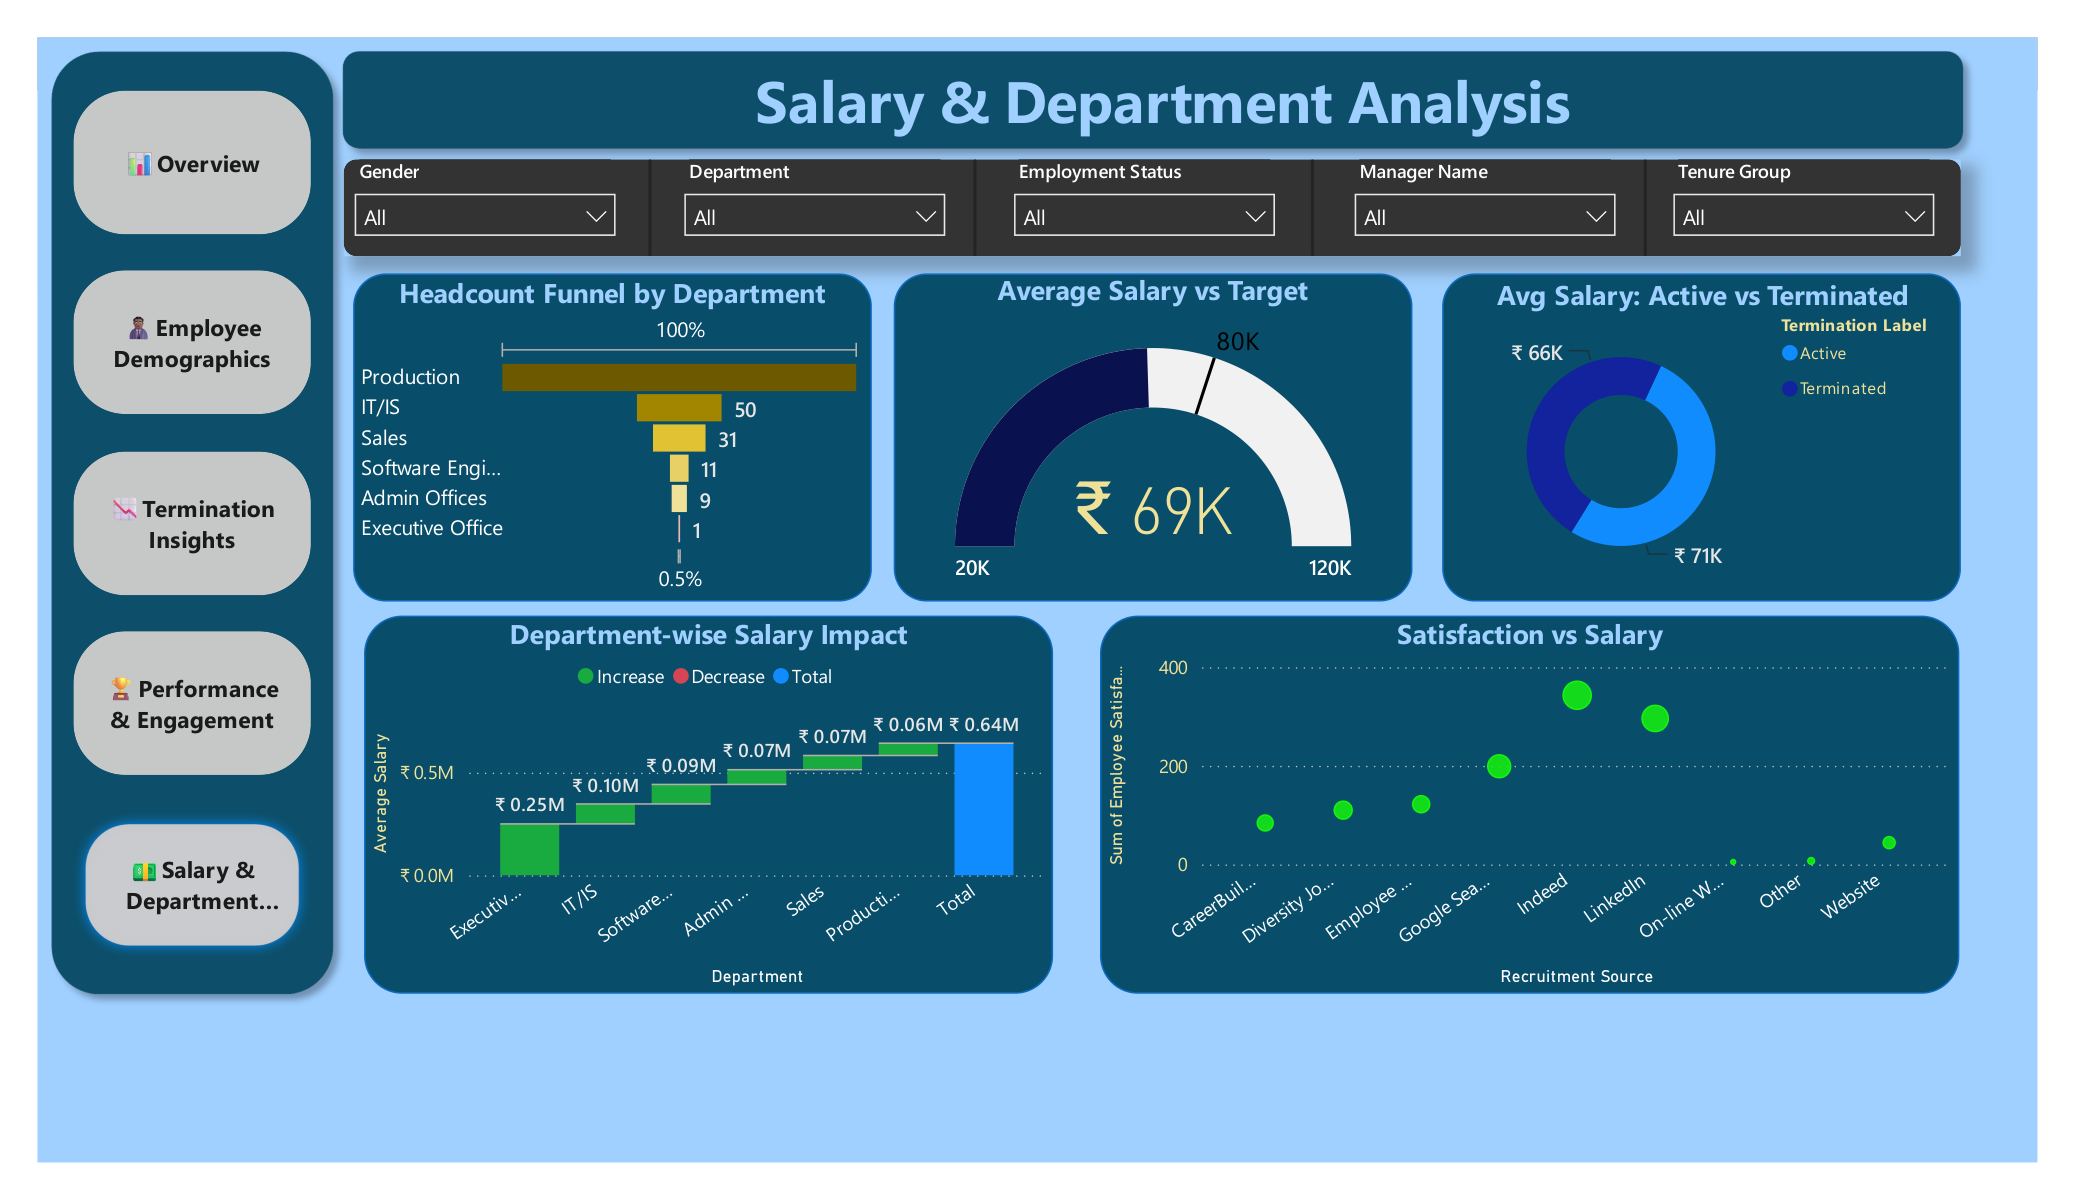

What the dashboard file says about the page in this screenshot:
{"tool":"powerbi","page":{"name":"Salary & Department Analysis","canvas":[1280,720],"ordinal":4},"visuals":[{"type":"shape","box":[0,0,198,621.4],"z":0},{"type":"actionButton","box":[23,34,152,92],"z":1000},{"type":"actionButton","box":[23.1,149.2,152,91.8],"z":2000},{"type":"actionButton","box":[23.1,264.8,152,91.8],"z":3000},{"type":"actionButton","box":[23.1,380.4,152,91.8],"z":4000},{"type":"actionButton","box":[23.1,495.9,152,92.9],"z":5000},{"type":"shape","box":[187,0,1054,80],"z":6000},{"type":"textbox","box":[209,10,1022,60],"z":7000},{"type":"shape","box":[196,78,1035,62],"z":8000},{"type":"slicer","fields":{"Values":["HRDataset_v14.Gender"]},"box":[198,78,177,64],"z":9000},{"type":"shape","box":[365,78,54,62],"z":10000},{"type":"slicer","fields":{"Values":["HRDataset_v14.Department"]},"box":[409,78,177,65],"z":11000},{"type":"slicer","fields":{"Values":["HRDataset_v14.Employment Status"]},"box":[620,78,177,64],"z":12000},{"type":"slicer","fields":{"Values":["HRDataset_v14.Manager Name"]},"box":[838,78,177,59],"z":13000},{"type":"slicer","fields":{"Values":["HRDataset_v14.Tenure Group"]},"box":[1042,78,177,62],"z":14000},{"type":"shape","box":[573,78,54,62],"z":15000},{"type":"shape","box":[789,78,54,62],"z":16000},{"type":"shape","box":[202,151,332,210],"z":17000},{"type":"shape","box":[1002,78,54,62],"z":18000},{"type":"shape","box":[548,151,332,210],"z":19000},{"type":"shape","box":[899,151,332,210],"z":20000},{"type":"shape","box":[209,370,441,242],"z":21000},{"type":"shape","box":[680,370,550,242],"z":22000},{"type":"funnel","title":"Headcount Funnel by Department","fields":{"Category":["HRDataset_v14.Department"],"Y":["CountNonNull(HRDataset_v14.Employee ID)"]},"box":[202,152,332,209],"z":23000},{"type":"gauge","title":"Average Salary vs Target","fields":{"Y":["HRDataset_v14.Average Salary"],"MaxValue":["HRDataset_v14.Max Salary"],"MinValue":["HRDataset_v14.Min Salary"],"TargetValue":["HRDataset_v14.Salary Target"]},"box":[548,150,331.6,209.2],"z":24000},{"type":"waterfallChart","title":"Department-wise Salary Impact","fields":{"Category":["HRDataset_v14.Department"],"Y":["HRDataset_v14.Average Salary"]},"box":[209,370,441,242],"z":25000},{"type":"scatterChart","title":"Satisfaction vs Salary","fields":{"X":["HRDataset_v14.Recruitment Source"],"Y":["Sum(HRDataset_v14.Employee Satisfaction)"],"Size":["Sum(HRDataset_v14.Tenure)"]},"box":[680,370,550,242],"z":26000},{"type":"donutChart","title":" Avg Salary: Active vs Terminated","fields":{"Y":["HRDataset_v14.Average Salary"],"Category":["HRDataset_v14.Termination Label"]},"box":[906.1,153.1,319.4,205.1],"z":27000}]}

Visuals, with their boxes on the page's 1280x720 design canvas (x1, y1, x2, y2). These are canvas units, not pixel positions in the 2075x1200 screenshot, which may show the page scaled, cropped or inside an application window:
shape: BBox(0, 0, 198, 621)
actionButton: BBox(23, 34, 175, 126)
actionButton: BBox(23, 149, 175, 241)
actionButton: BBox(23, 265, 175, 357)
actionButton: BBox(23, 380, 175, 472)
actionButton: BBox(23, 496, 175, 589)
shape: BBox(187, 0, 1241, 80)
textbox: BBox(209, 10, 1231, 70)
shape: BBox(196, 78, 1231, 140)
slicer - HRDataset_v14.Gender: BBox(198, 78, 375, 142)
shape: BBox(365, 78, 419, 140)
slicer - HRDataset_v14.Department: BBox(409, 78, 586, 143)
slicer - HRDataset_v14.Employment Status: BBox(620, 78, 797, 142)
slicer - HRDataset_v14.Manager Name: BBox(838, 78, 1015, 137)
slicer - HRDataset_v14.Tenure Group: BBox(1042, 78, 1219, 140)
shape: BBox(573, 78, 627, 140)
shape: BBox(789, 78, 843, 140)
shape: BBox(202, 151, 534, 361)
shape: BBox(1002, 78, 1056, 140)
shape: BBox(548, 151, 880, 361)
shape: BBox(899, 151, 1231, 361)
shape: BBox(209, 370, 650, 612)
shape: BBox(680, 370, 1230, 612)
"Headcount Funnel by Department" funnel: BBox(202, 152, 534, 361)
"Average Salary vs Target" gauge: BBox(548, 150, 880, 359)
"Department-wise Salary Impact" waterfallChart: BBox(209, 370, 650, 612)
"Satisfaction vs Salary" scatterChart: BBox(680, 370, 1230, 612)
" Avg Salary: Active vs Terminated" donutChart: BBox(906, 153, 1226, 358)
